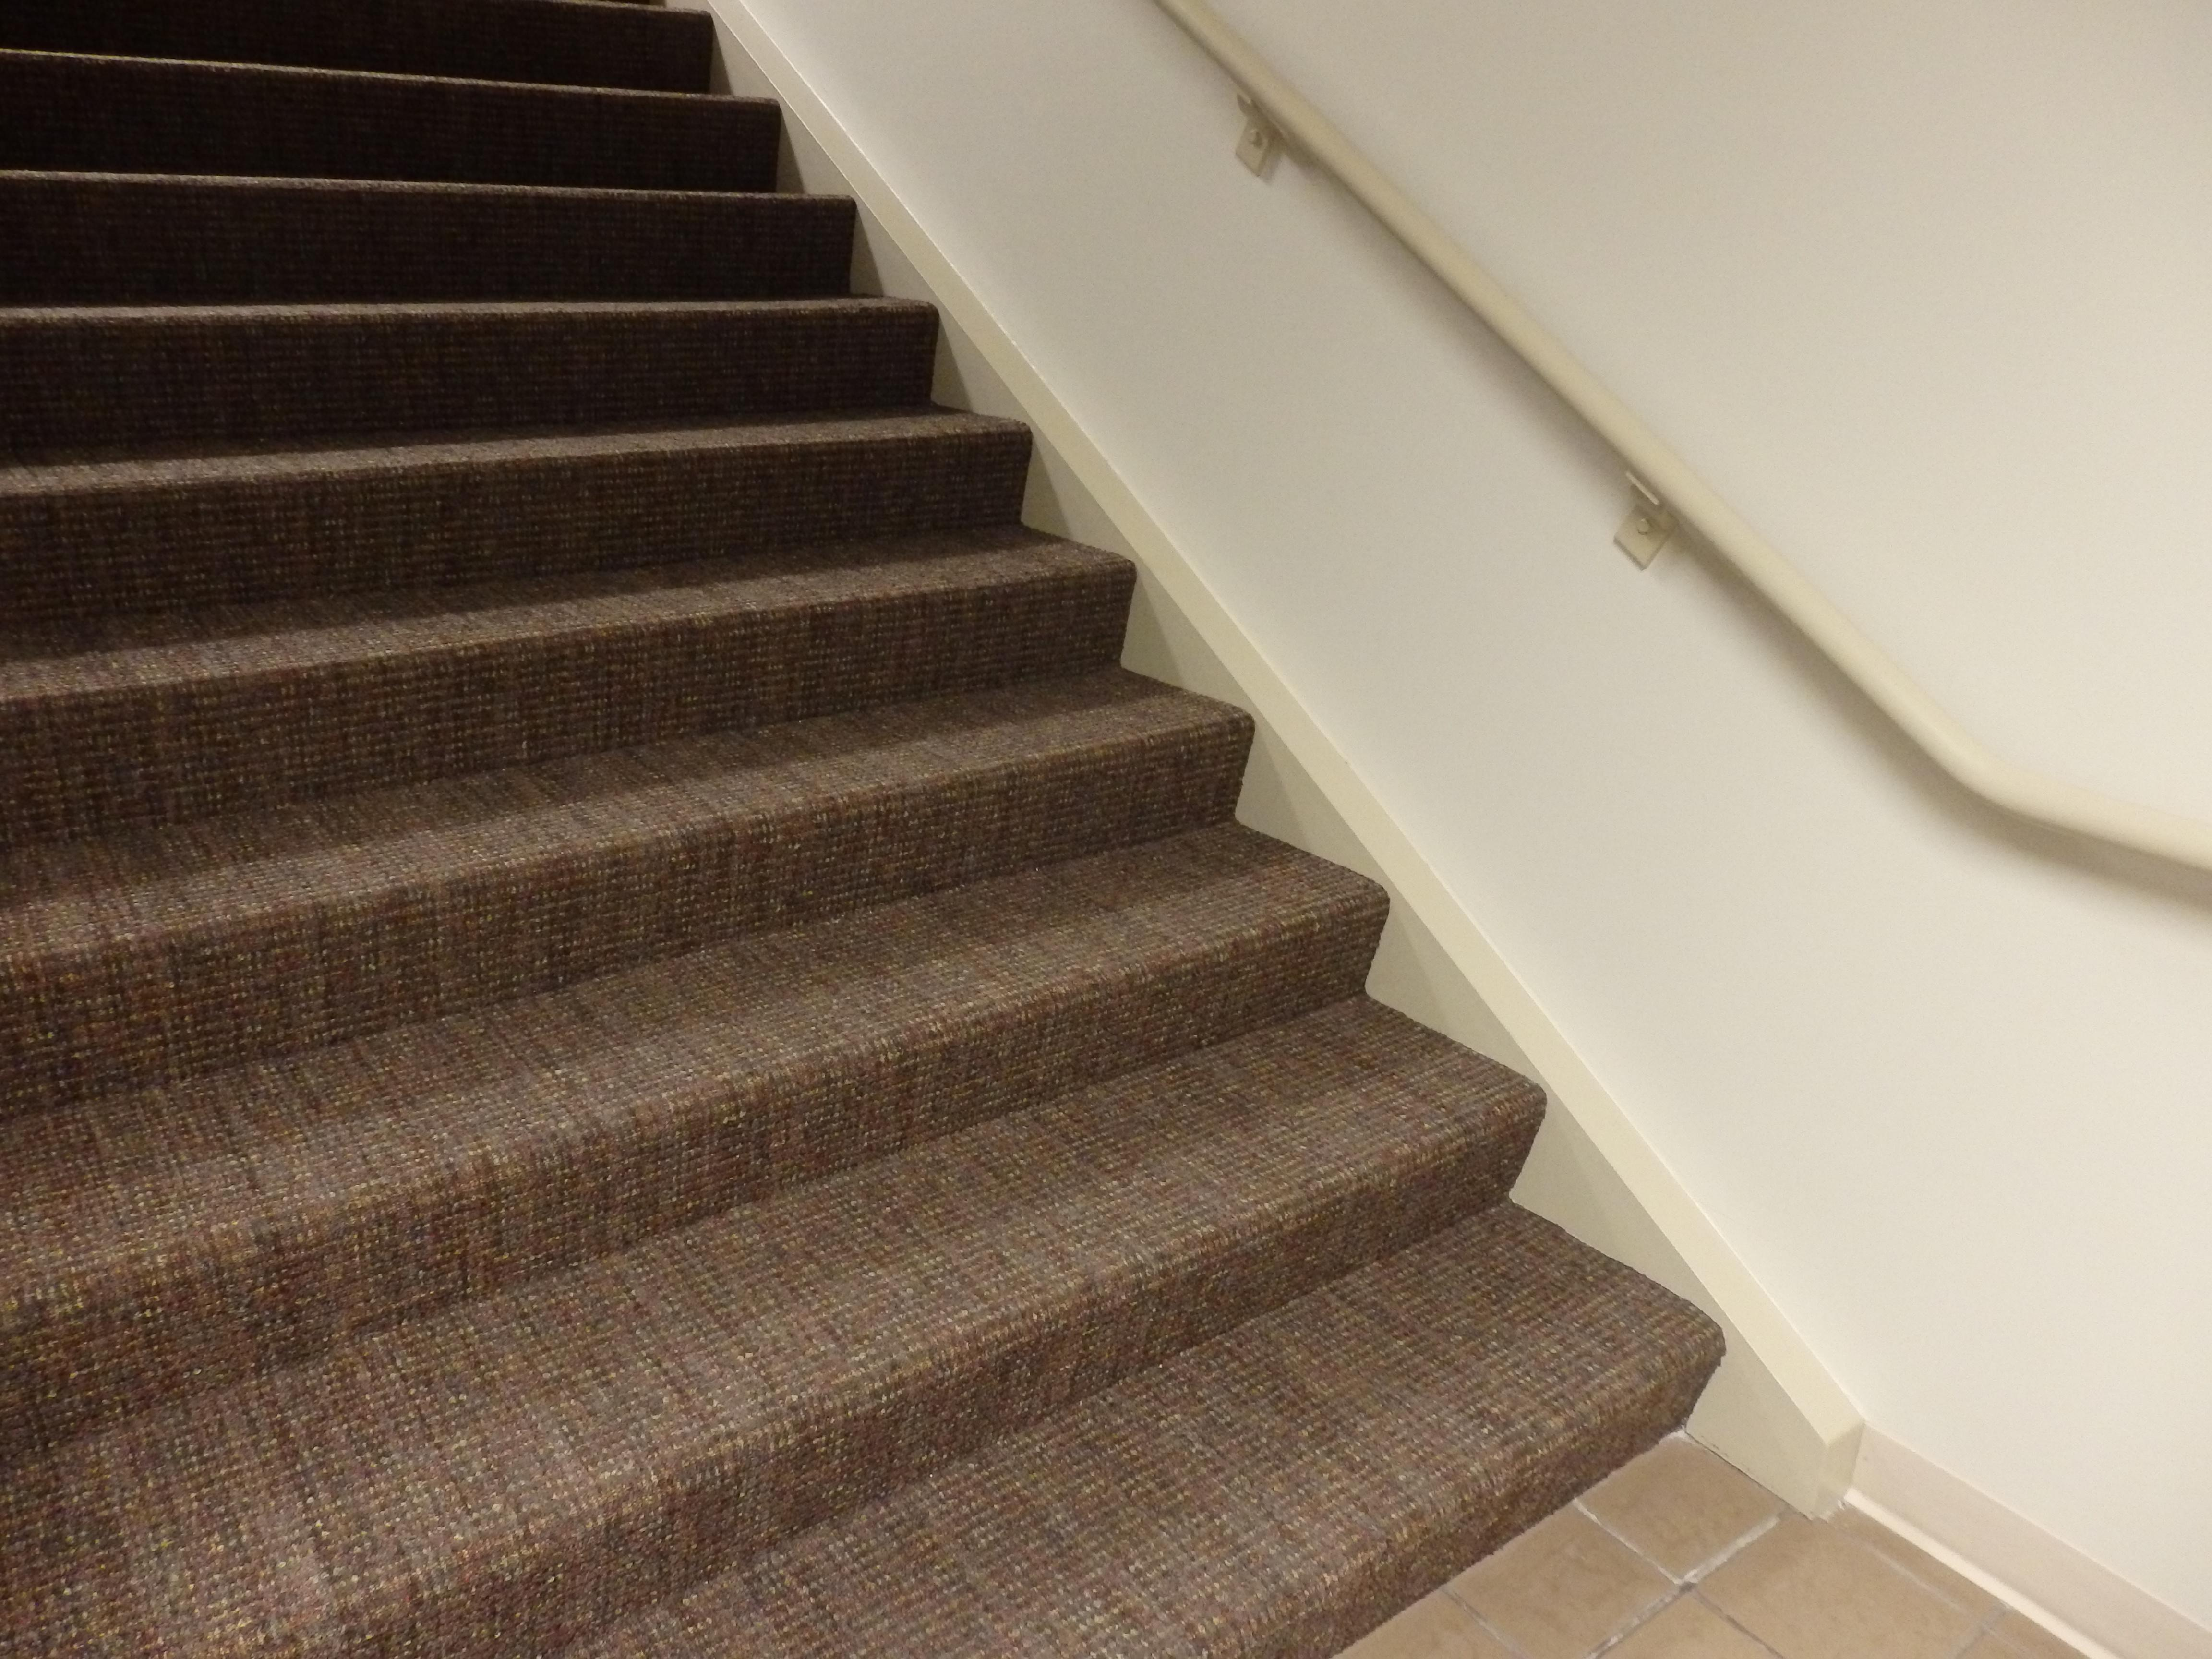stairs_up: (0, 37, 1357, 1659)
